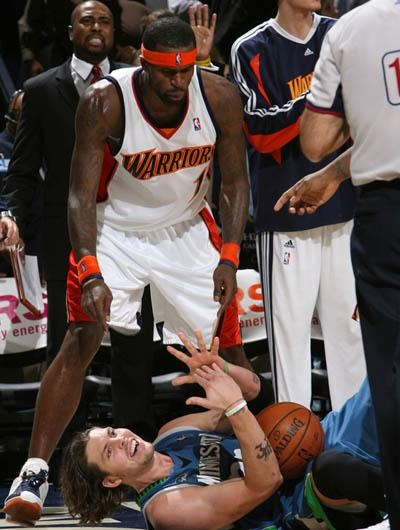falling: (48, 341, 349, 529)
